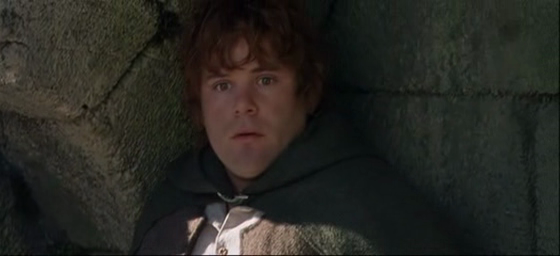face: (200, 49, 295, 178)
mcu: (1, 1, 560, 256)
person: (127, 1, 489, 256)
